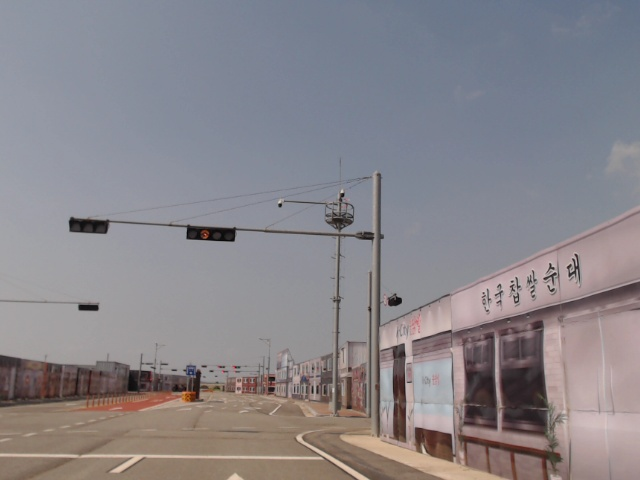orange_4: (187, 224, 236, 245)
